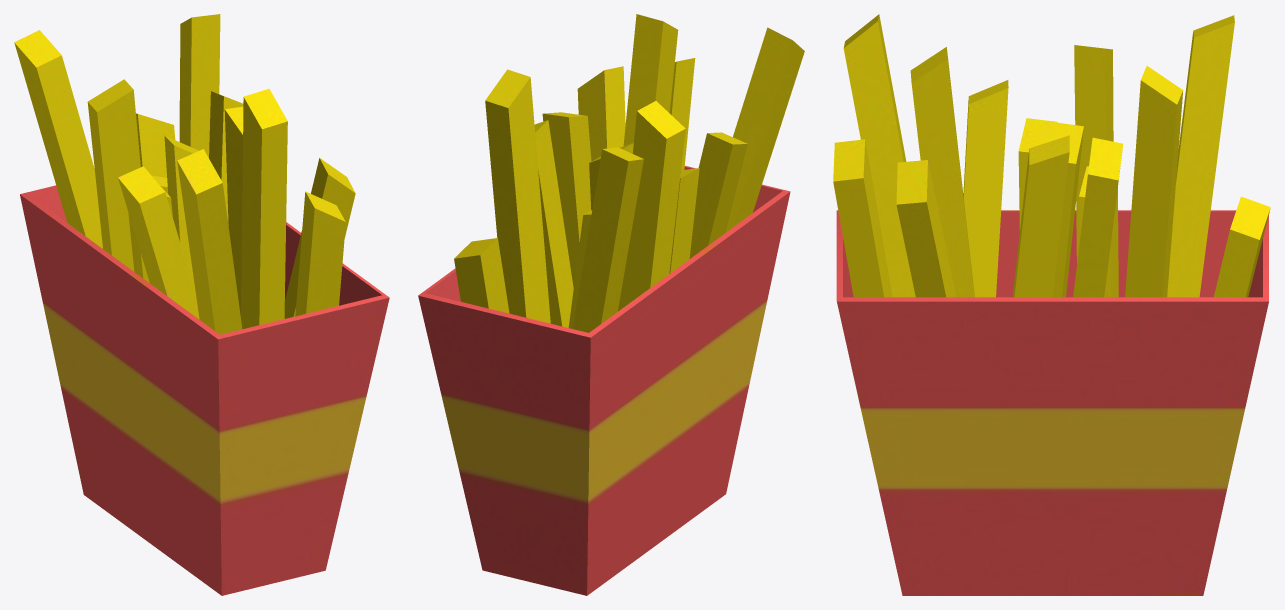
Rendered from French_fries.fbx.
The picture shows the model from 3 angles, left to right: view 1: azimuth 30°, elevation 25°; view 2: azimuth 150°, elevation 25°; view 3: azimuth 270°, elevation 25°; orthographic projection. The views are drawn at different scales.
Visible parts, largest first — view 1: French_fries; view 2: French_fries; view 3: French_fries.
Boxes of the visible parts, x1=… form: French_fries: x1=14, y1=14, x2=389, y2=595; French_fries: x1=418, y1=14, x2=804, y2=595; French_fries: x1=833, y1=14, x2=1270, y2=595.
Bounding box in the file's own units: 2.23 × 5.25 × 4.02.
Materials: 1 (1 with a texture image).
